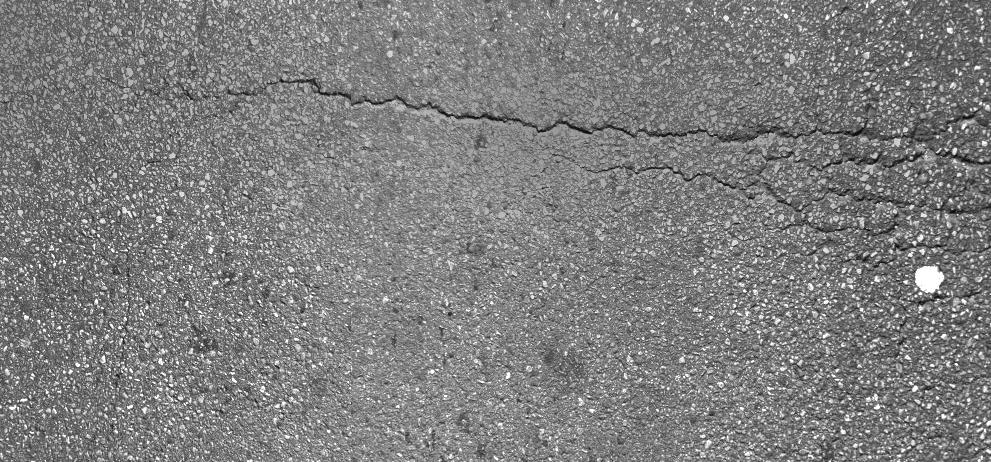alligator-crack: (740, 114, 991, 293)
crack: (143, 63, 729, 183)
